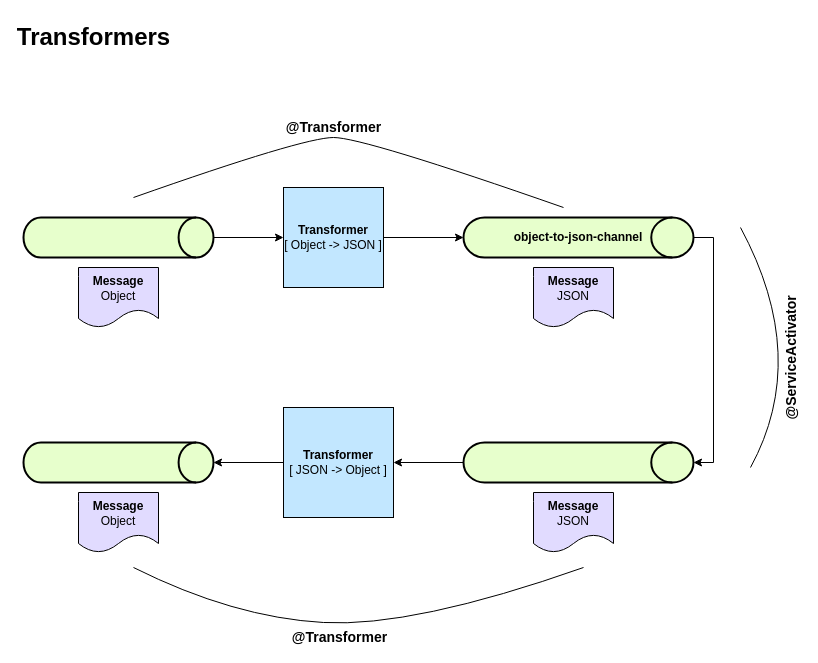
Some shapes in this 818 by 663 pixel diagram are drawn without their labels. The box of each missing label's shape, as (x1, y1, x2, y2) in pixels:
input-channel: (22, 216, 214, 258)
json-to-object-channel: (462, 441, 694, 483)
output-channel: (22, 441, 214, 483)
